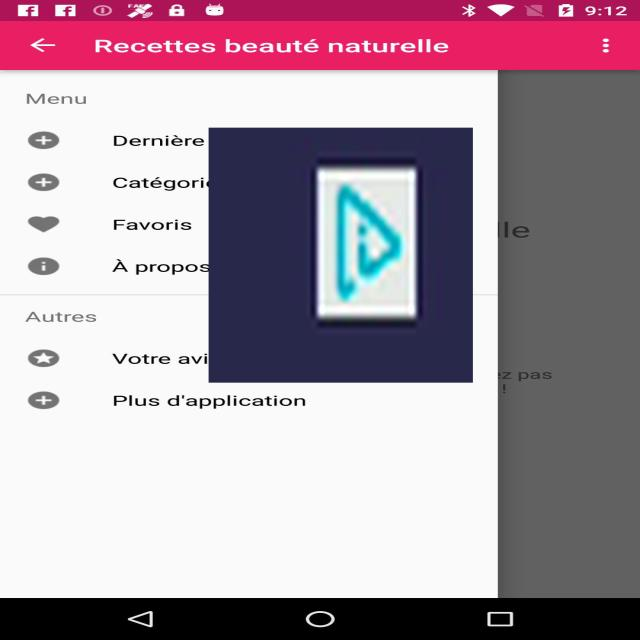sneaking: (208, 128, 473, 382)
